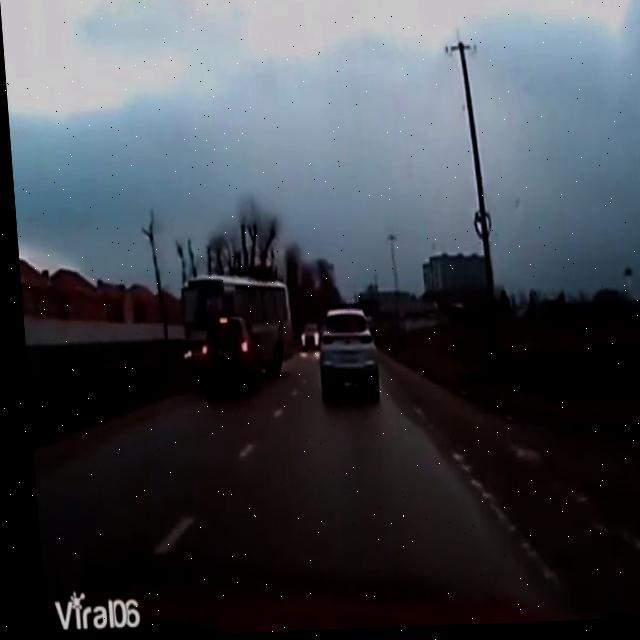multiple_accident: (156, 229, 293, 406)
normal: (307, 272, 432, 425)
